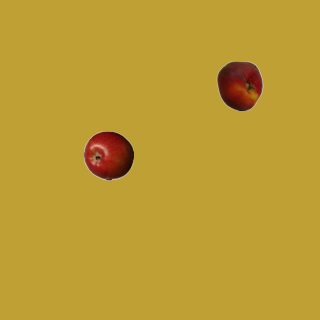Apple Braeburn: (83, 130, 133, 180)
Nectarine Flat: (214, 60, 264, 110)
